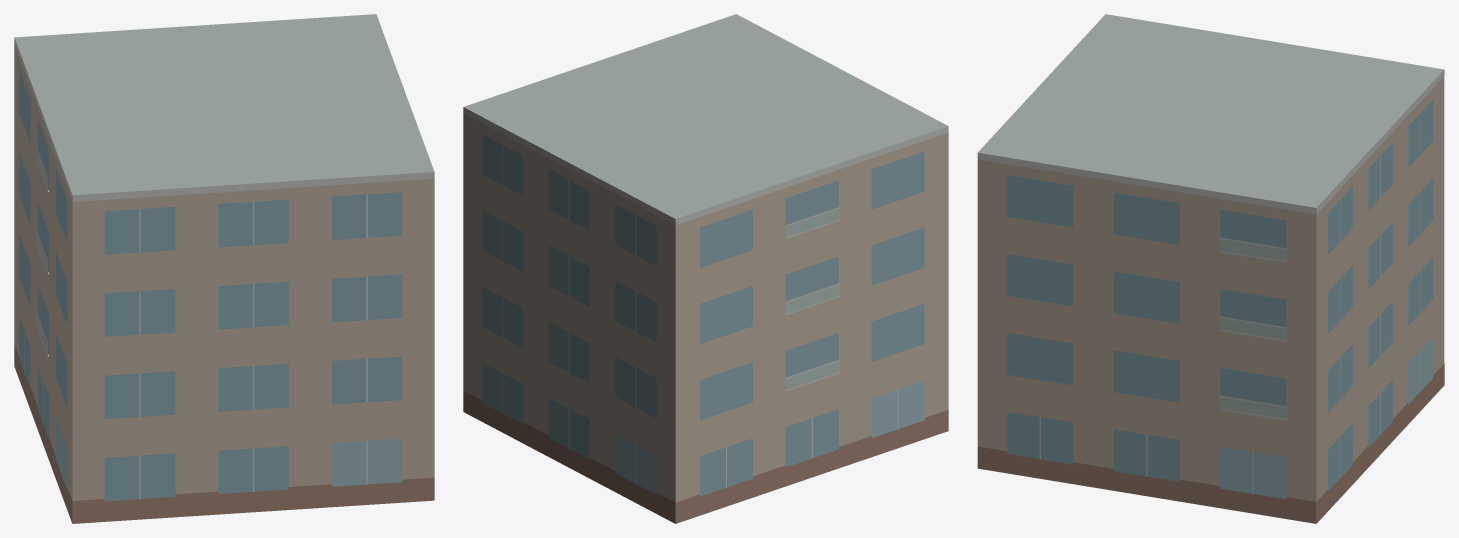
The model's file is survey-upis-32832055.glb.
3 renders of one model, left to right at view 1: azimuth 30°, elevation 25°; view 2: azimuth 150°, elevation 25°; view 3: azimuth 270°, elevation 25°, orthographic. The views are drawn at different scales.
Visible parts, largest first — view 1: survey-upis-32832055.tmp; view 2: survey-upis-32832055.tmp; view 3: survey-upis-32832055.tmp.
Boxes of the visible parts, bbox=[...] form: survey-upis-32832055.tmp: bbox=[14, 14, 434, 523]; survey-upis-32832055.tmp: bbox=[463, 14, 948, 523]; survey-upis-32832055.tmp: bbox=[977, 14, 1444, 523].
Size of the model in its own units: 15.55 by 11.8 by 15.81.
